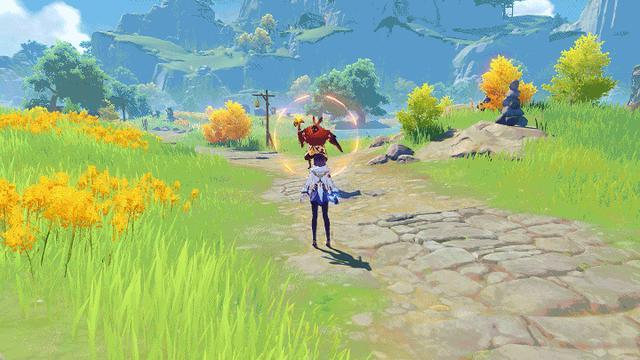夜兰: (302, 155, 343, 254)
